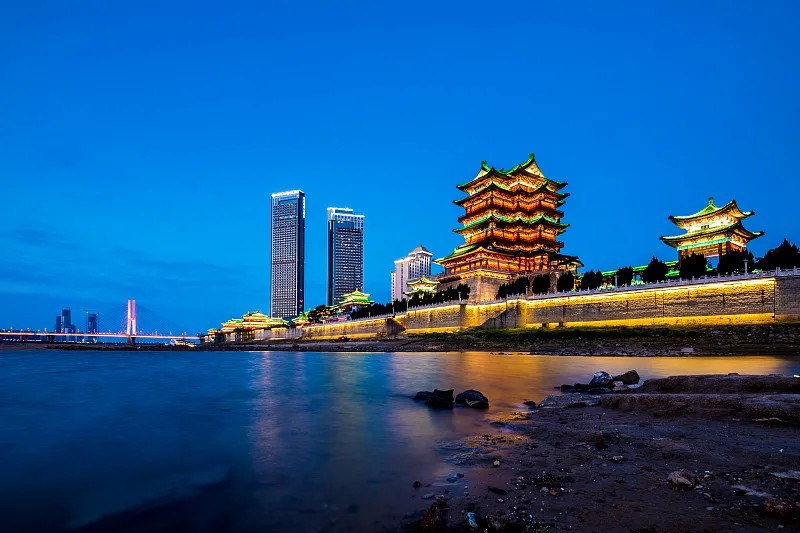Teng: (432, 151, 585, 276)
